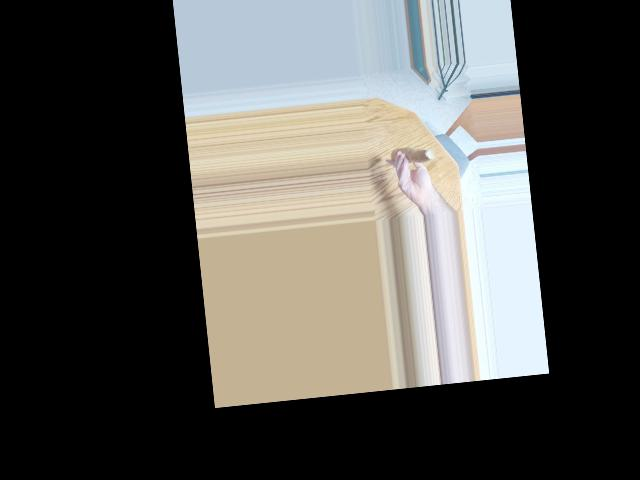sweet_potato: (395, 142, 433, 169)
